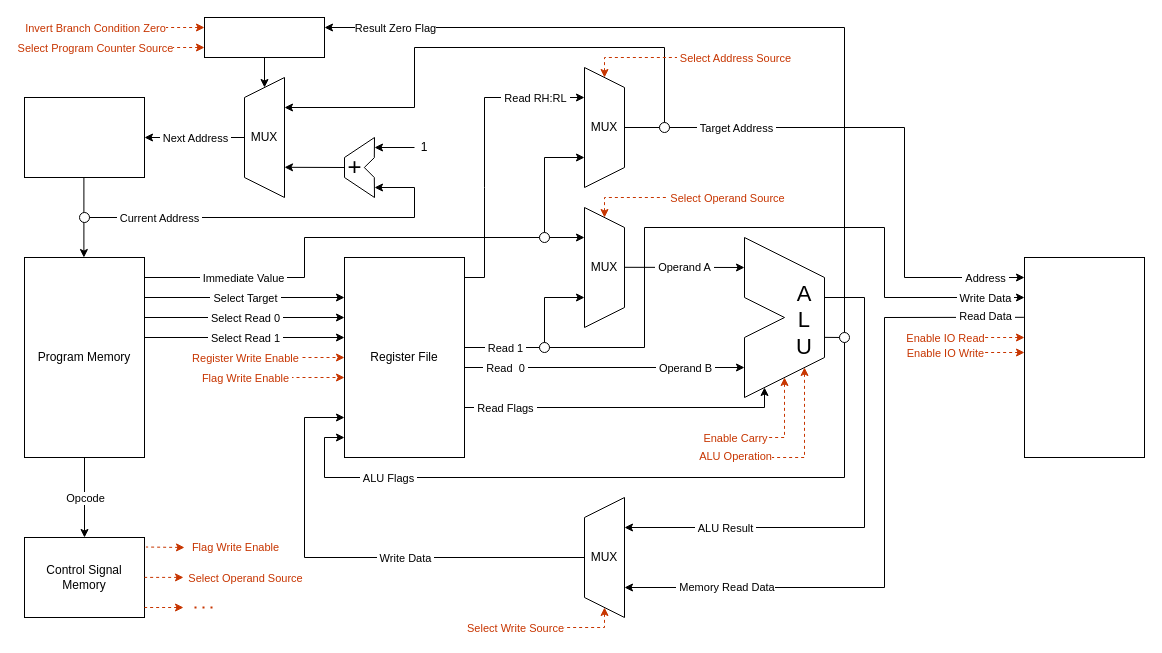
This 1162x653 diagram has some shape labels left out. The shapes that lost their labels are listed below. From the top down, each one's centre as x and y in pixels, then its label:
the point at 264,37: Branching logic
the point at 84,137: Program Counter
the point at 1084,357: Main Memory
